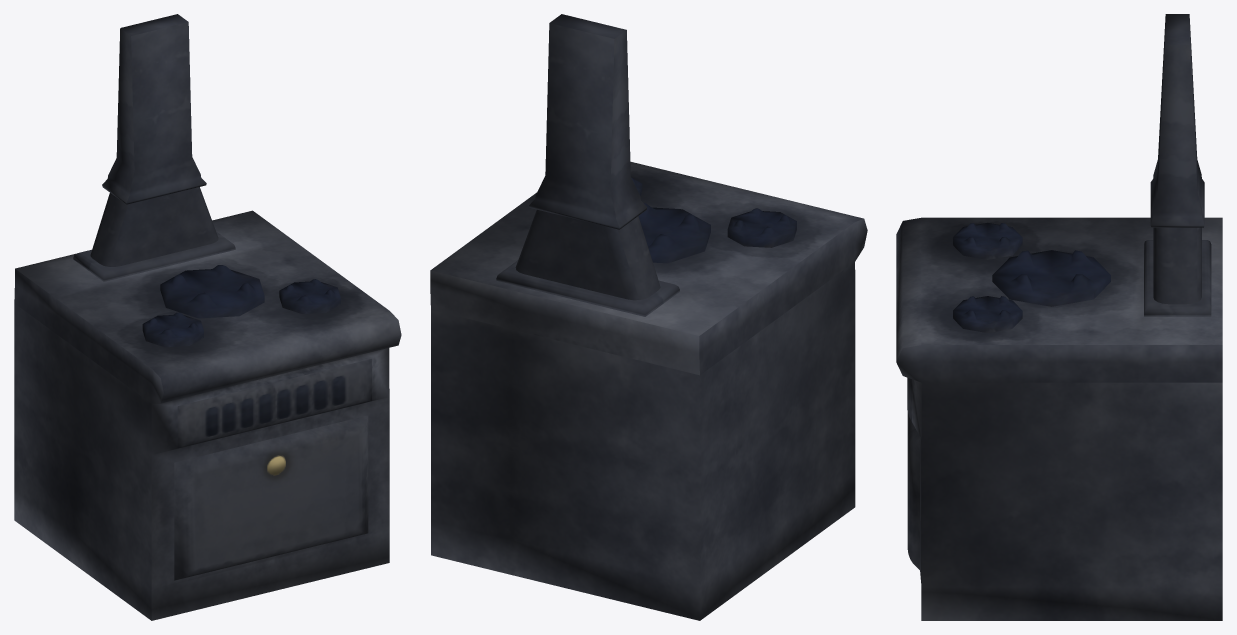
The model's file is Fogao.fbx.
3 views of the same model, side by side, from view 1: azimuth 30°, elevation 25°; view 2: azimuth 150°, elevation 25°; view 3: azimuth 270°, elevation 25° (orthographic). The views are drawn at different scales.
Parts seen in each view (by area): view 1: Fogão; view 2: Fogão; view 3: Fogão.
Boxes of the visible parts, box(x1,y1,x2,y2) form: Fogão: box(14, 14, 401, 620); Fogão: box(430, 14, 867, 620); Fogão: box(896, 14, 1222, 620).
Bounding box in the file's own units: 80.19 × 155 × 86.72.
